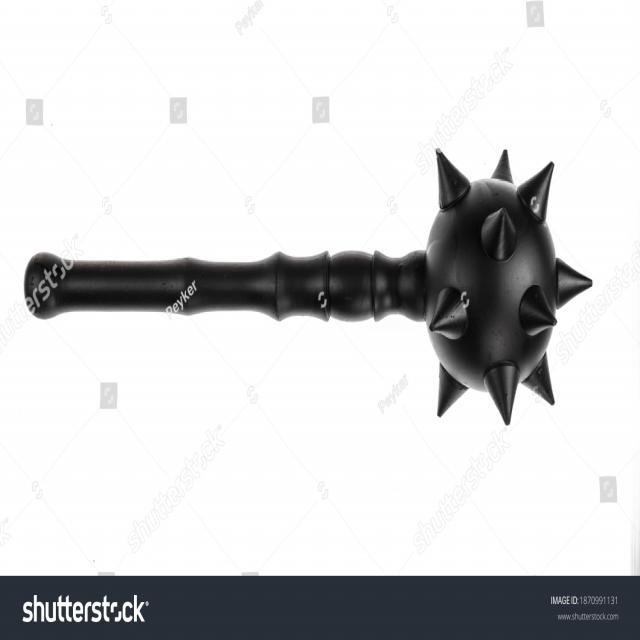mace: (23, 145, 599, 427)
